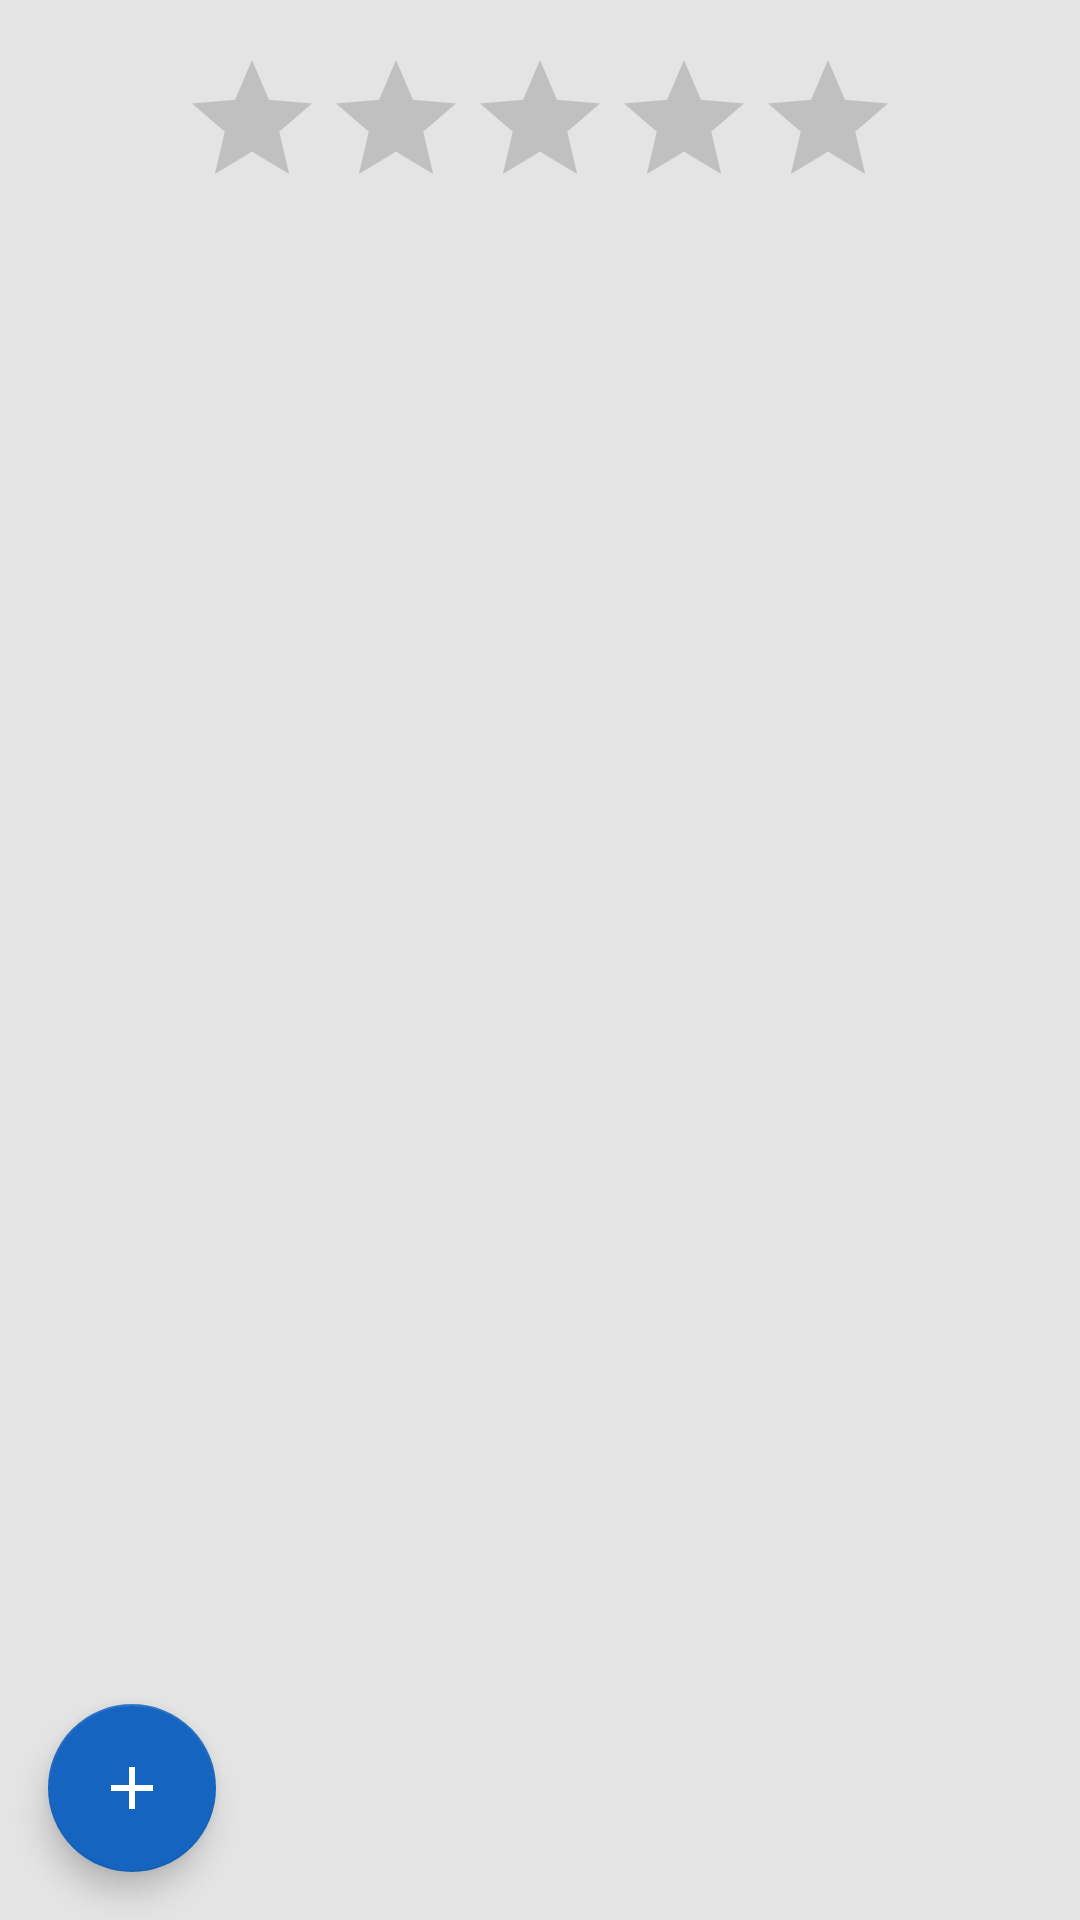

Screen size 1080×1920. Icon name, then its box in pixels as (x1,y1,x2,y2):
add: (48,1704,216,1872)
